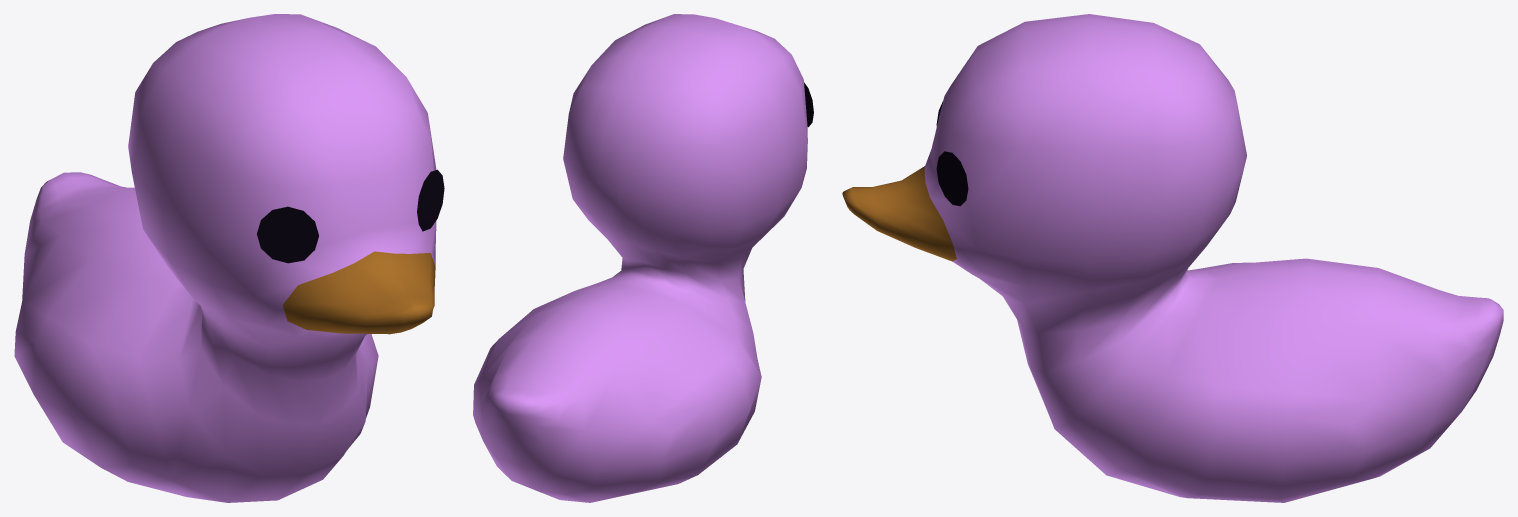
Rendered from Duck_LightPurple.fbx.
3 renders of one model, left to right at view 1: azimuth 30°, elevation 25°; view 2: azimuth 150°, elevation 25°; view 3: azimuth 270°, elevation 25°, orthographic. The views are drawn at different scales.
Parts seen in each view (by area): view 1: Duck_LightPurple; view 2: Duck_LightPurple; view 3: Duck_LightPurple.
Part boxes in pixels (left/top/right/bottom): Duck_LightPurple: left=14, top=14, right=444, bottom=502; Duck_LightPurple: left=473, top=14, right=813, bottom=502; Duck_LightPurple: left=842, top=14, right=1503, bottom=502.
Size of the model in its own units: 76.94 by 124 by 165.
